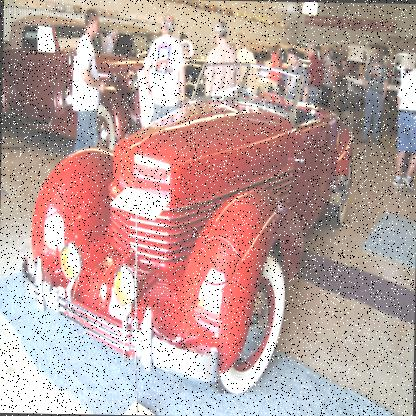Car: (20, 55, 354, 396), (1, 12, 343, 154), (1, 13, 148, 152)
